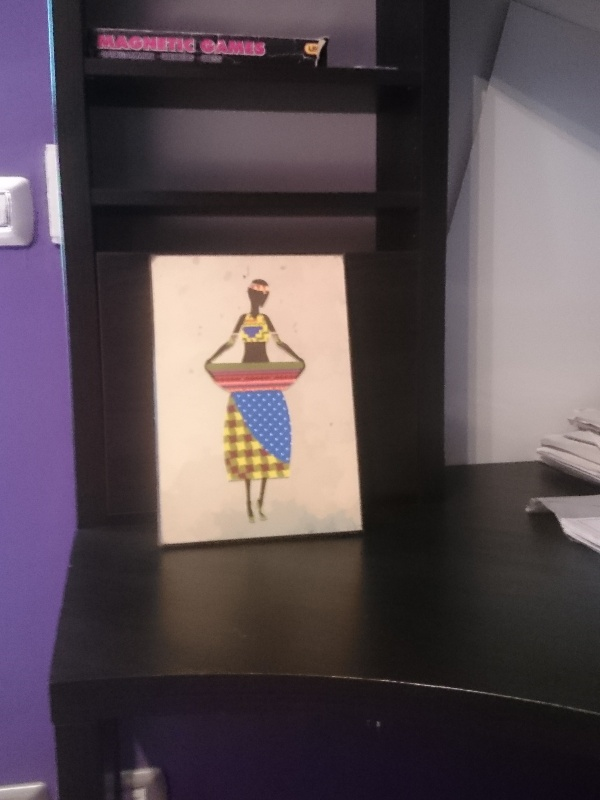my image: (156, 255, 356, 542)
